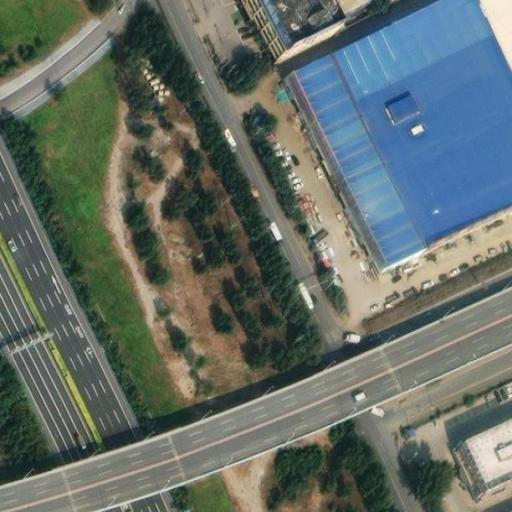building: (287, 0, 511, 261), (466, 410, 512, 476)
